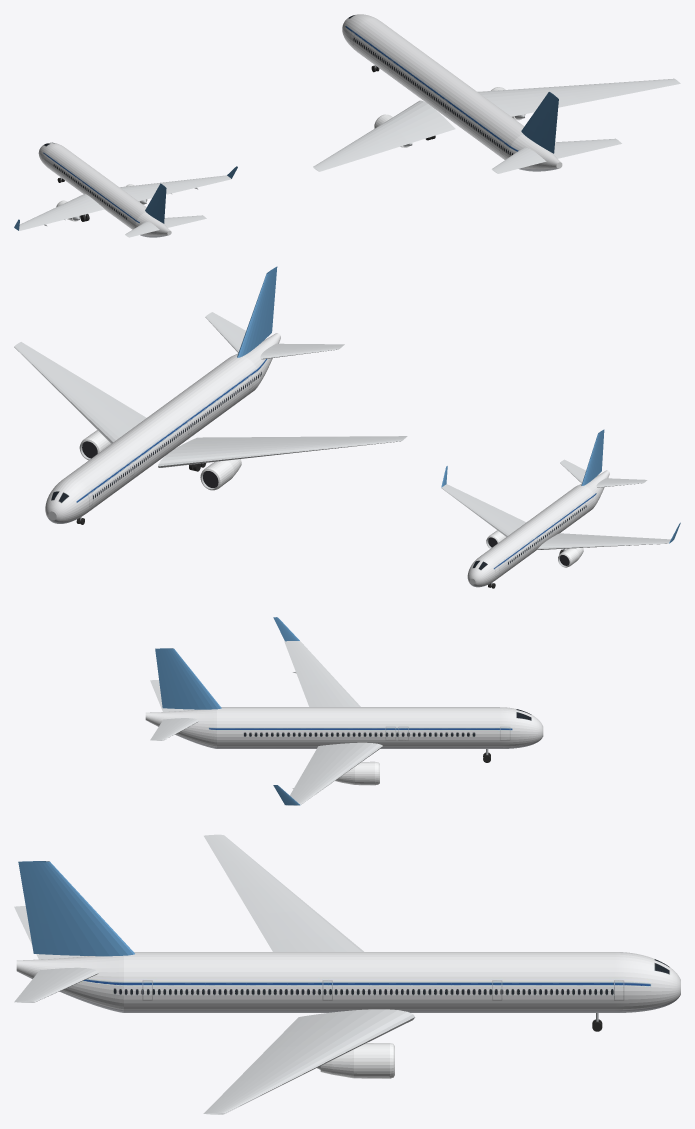
Rendered from aircraft.glb.
3 renders of one model, top to bottom at view 1: azimuth 30°, elevation 25°; view 2: azimuth 150°, elevation 25°; view 3: azimuth 270°, elevation 25°, orthographic. The views are drawn at different scales.
Parts seen in each view (by area): view 1: wide_body, narrow_body; view 2: wide_body, narrow_body; view 3: wide_body, narrow_body.
Part boxes in pixels (<box>): wide_body: <box>313,14,680,173</box>; narrow_body: <box>14,142,237,237</box>; wide_body: <box>14,266,407,523</box>; narrow_body: <box>441,429,680,587</box>; wide_body: <box>14,834,680,1114</box>; narrow_body: <box>145,617,543,805</box>.
Bounding box in the file's own units: 110 × 17.9 × 62.93.
9 materials, 2 textured.
